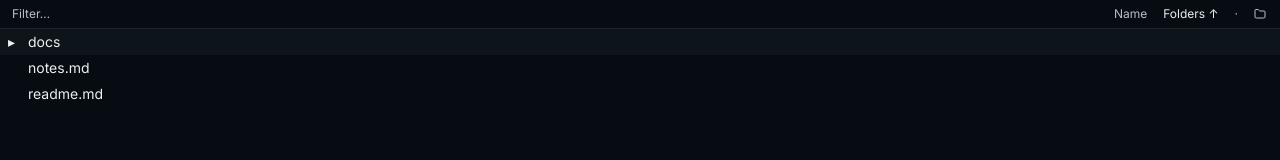
Test case: FileTree › listing & filter › filters rows by the fuzzy filter input
Expected: the text "readme.md" is shown, [28, 84, 103, 104]
Type "notes" into the field named "Filter files". click: (556, 14)
box: [8, 4, 1104, 24]
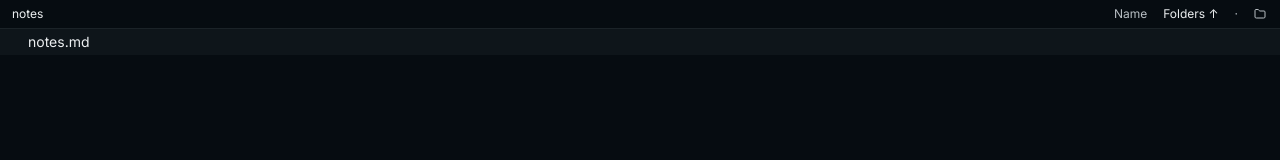
Expected: the text "notes.md" is shown, [28, 32, 90, 52]
Result: the text "readme.md" is gone
